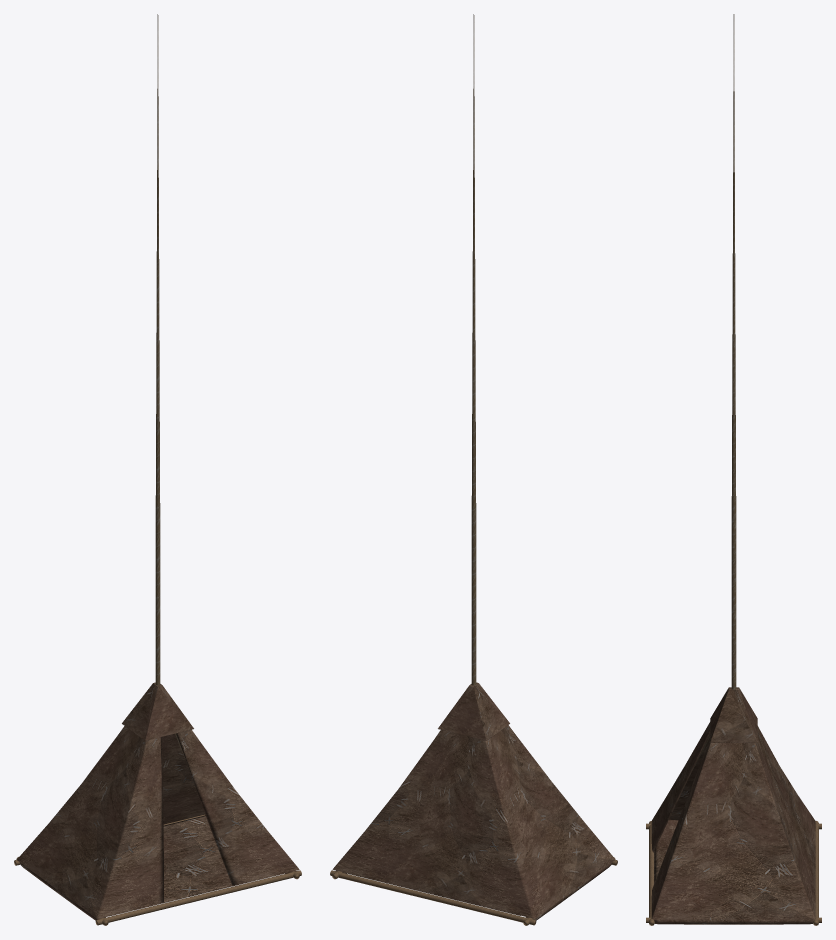
Rendered from Tent.fbx.
The picture shows the model from 3 angles, left to right: view 1: azimuth 30°, elevation 25°; view 2: azimuth 150°, elevation 25°; view 3: azimuth 270°, elevation 25°; orthographic projection.
Parts seen in each view (by area): view 1: tent_Toile_Default, Tent; view 2: tent_Toile_Default, Tent; view 3: tent_Toile_Default, Tent.
Boxes of the visible parts, x1,y1,x2,y2 form: tent_Toile_Default: [17, 726, 299, 918]; Tent: [14, 14, 301, 925]; tent_Toile_Default: [332, 725, 615, 918]; Tent: [330, 14, 617, 925]; tent_Toile_Default: [651, 722, 815, 919]; Tent: [646, 14, 821, 925].
Size of the model in its own units: 15.27 by 61.55 by 11.37.
